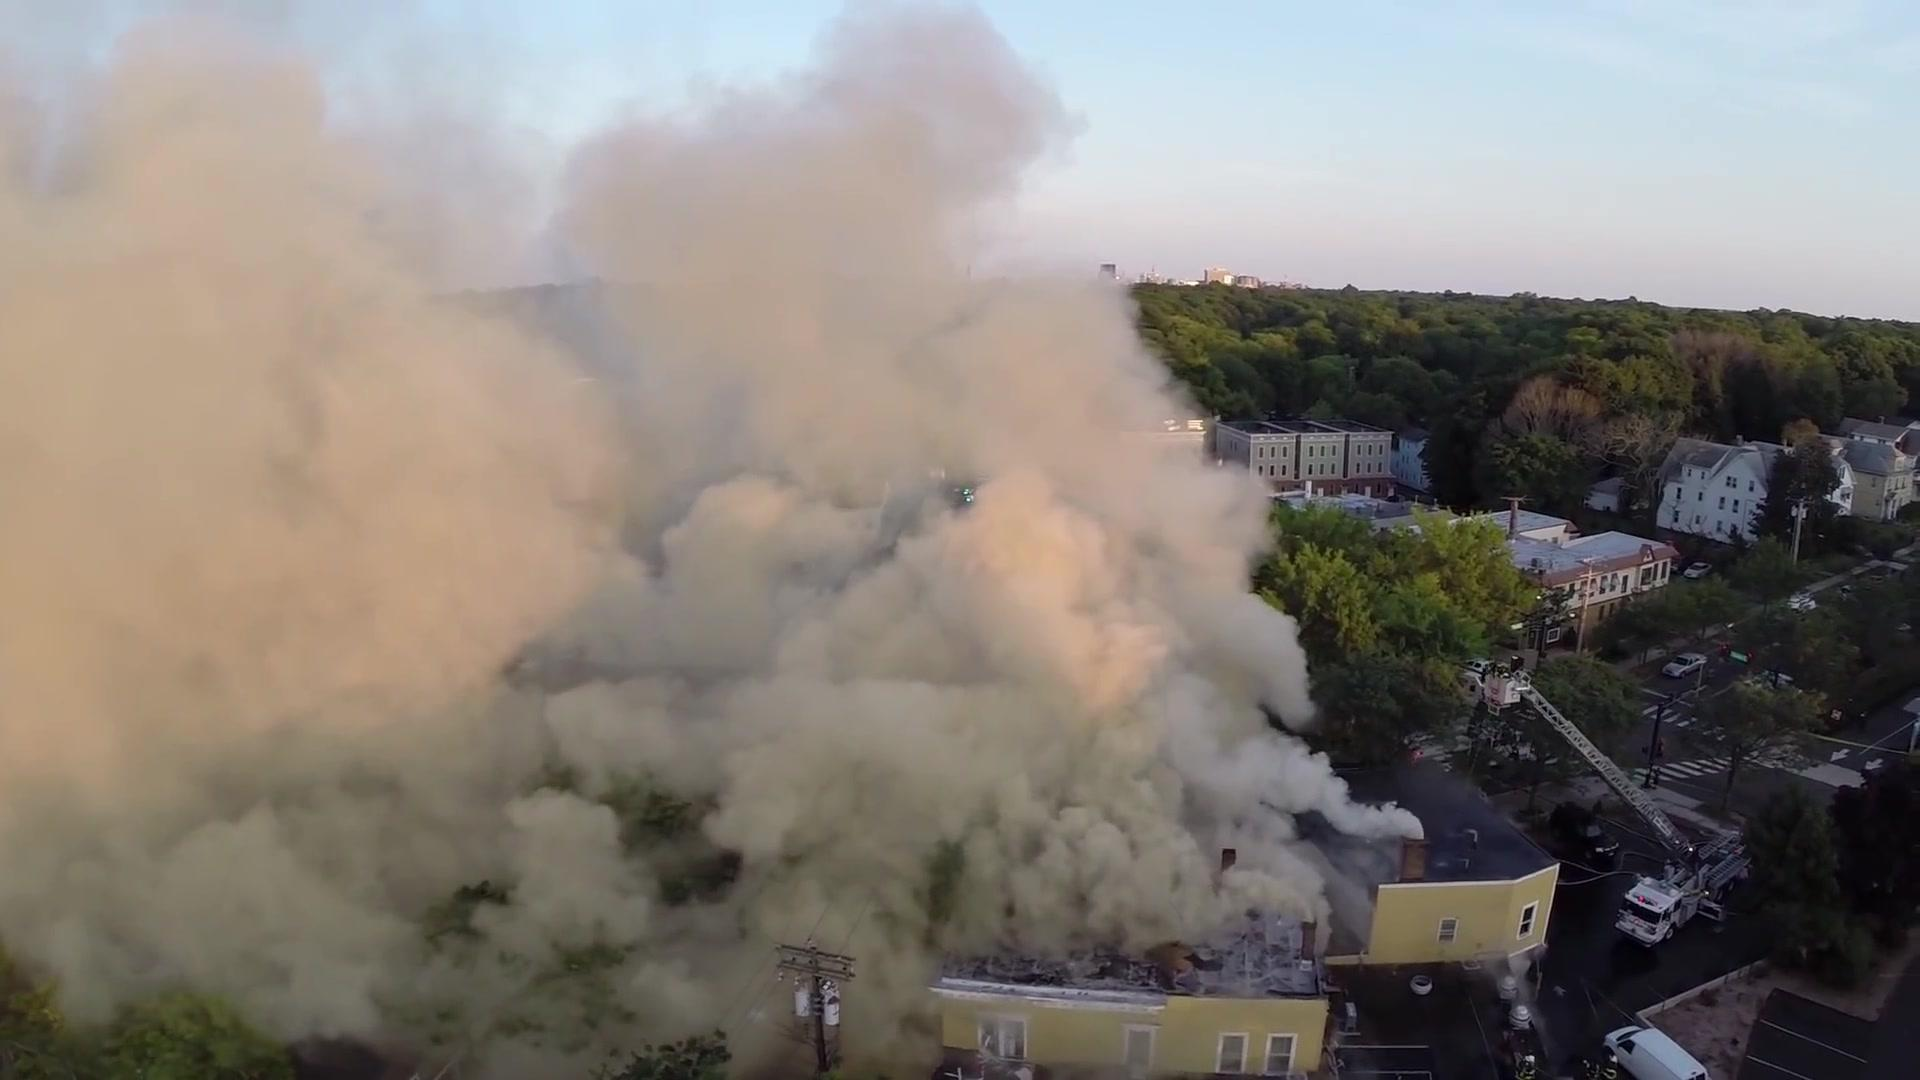smoke: (8, 264, 1170, 975)
